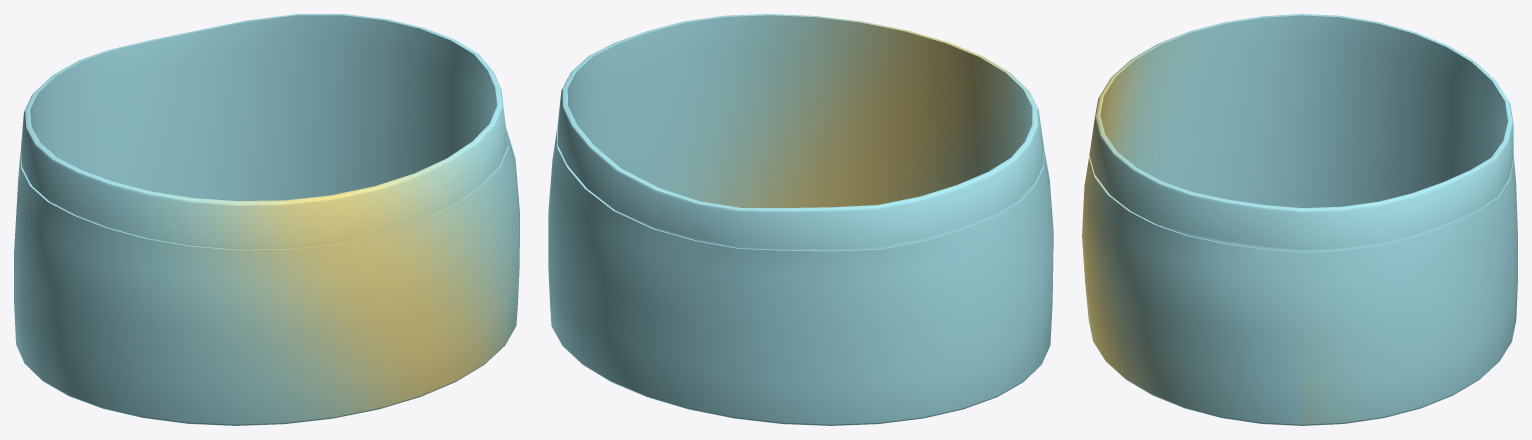
File: daniel_skirt.gltf
3 views of the same model, side by side, from view 1: azimuth 30°, elevation 25°; view 2: azimuth 150°, elevation 25°; view 3: azimuth 270°, elevation 25° (orthographic). The views are drawn at different scales.
Parts seen in each view (by area): view 1: daniel_skirt; view 2: daniel_skirt; view 3: daniel_skirt.
Part boxes in pixels (x1,y1,x2,y2): daniel_skirt: (14,14,519,425); daniel_skirt: (548,14,1053,425); daniel_skirt: (1082,14,1517,425).
Size of the model in its own units: 0.0351 by 0.0165 by 0.0308.
Materials: 1 (1 with a texture image).
